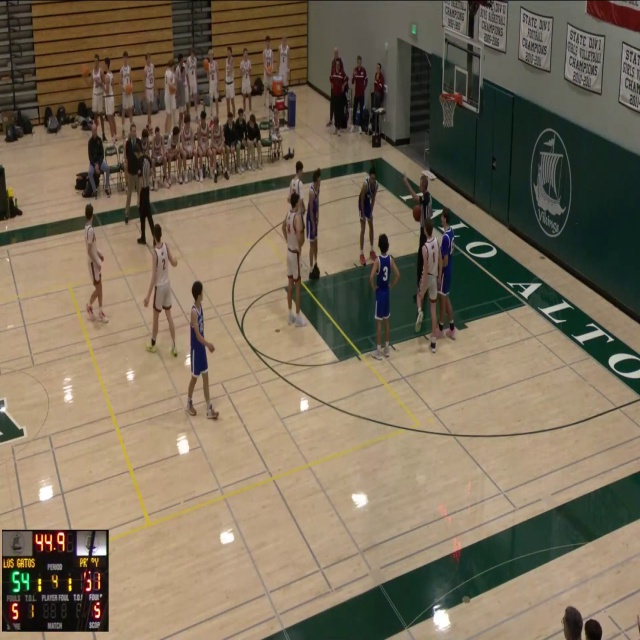Basketball: (413, 205, 421, 221)
